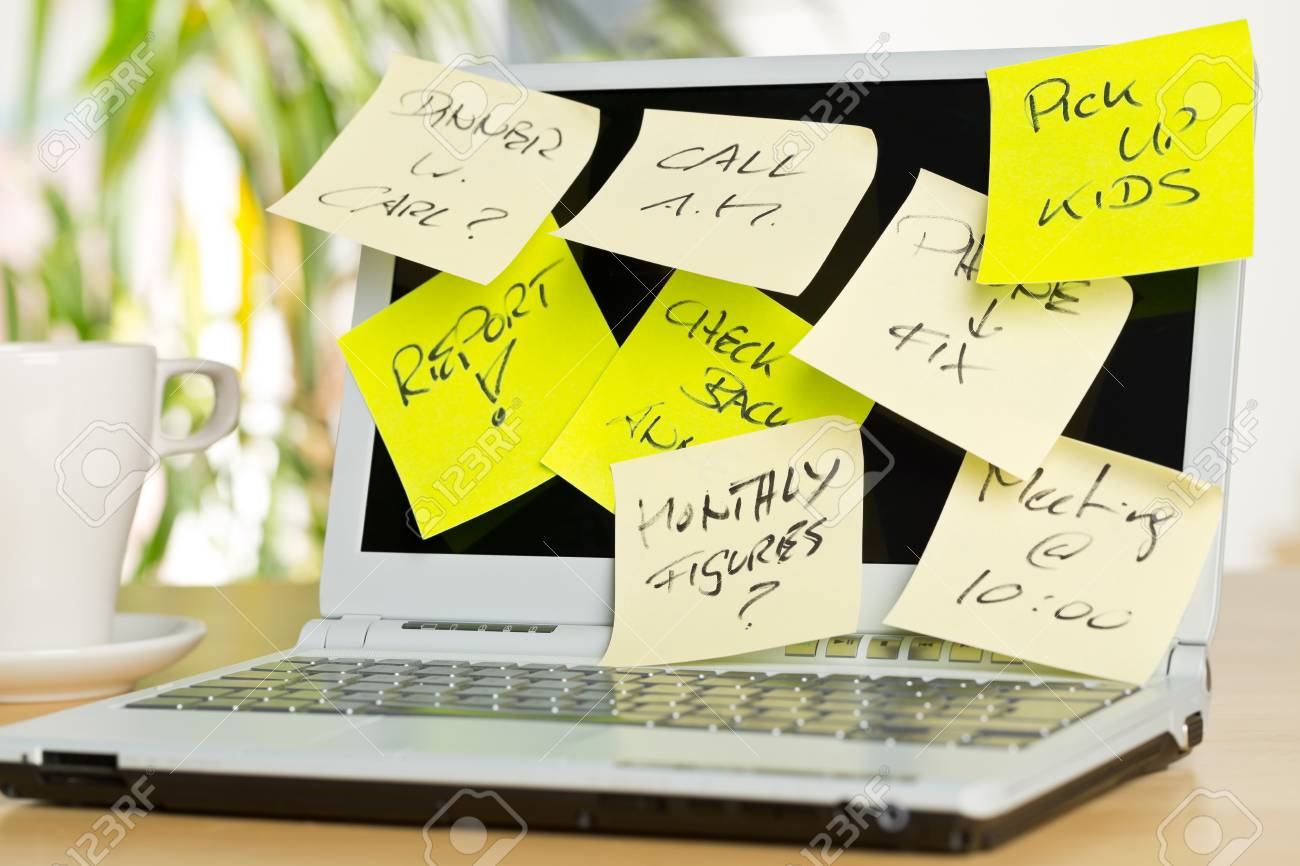Note: (797, 172, 1140, 485), (323, 220, 621, 530), (884, 423, 1218, 689), (542, 262, 873, 530), (971, 15, 1258, 285), (273, 49, 594, 280), (610, 420, 865, 665), (574, 109, 876, 291)
